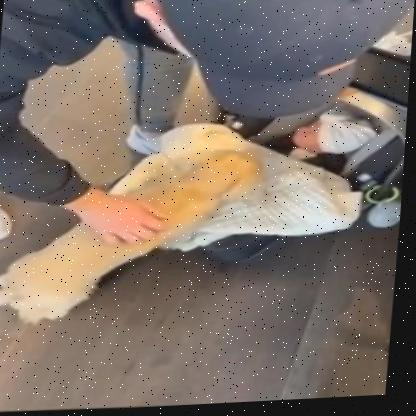dog: (0, 143, 267, 331)
